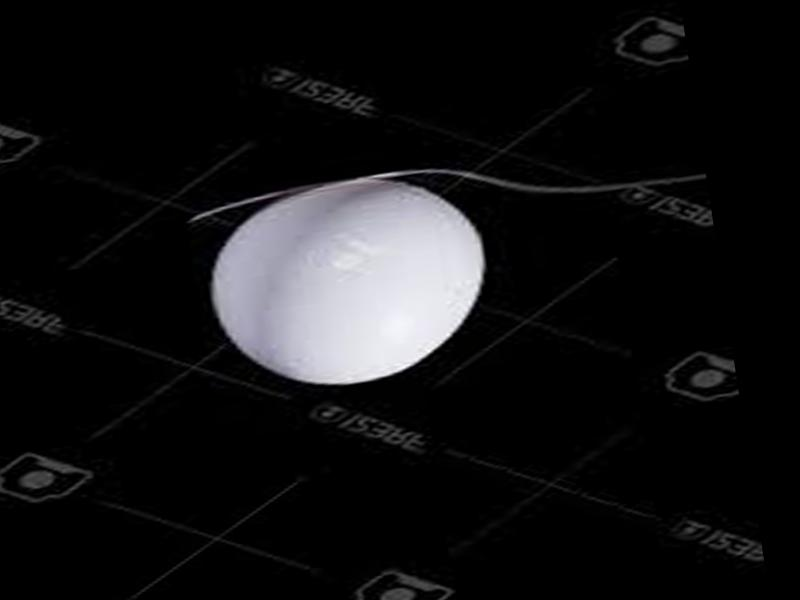Eggs: (197, 162, 499, 399)
